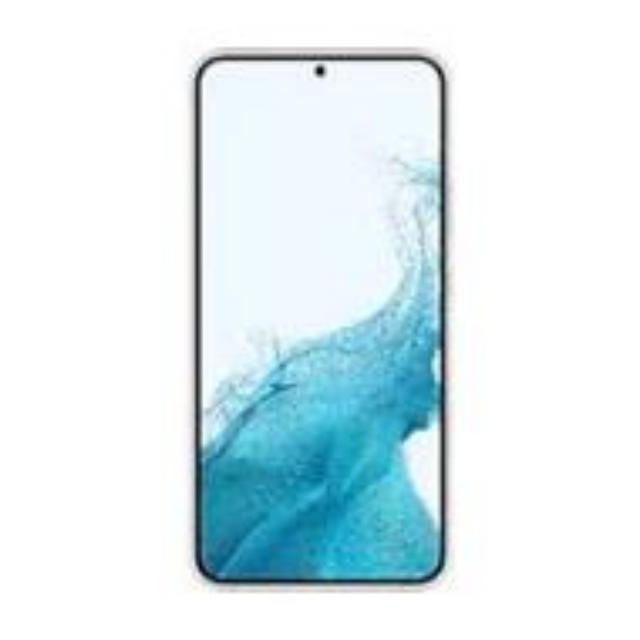phone: (183, 55, 457, 584)
